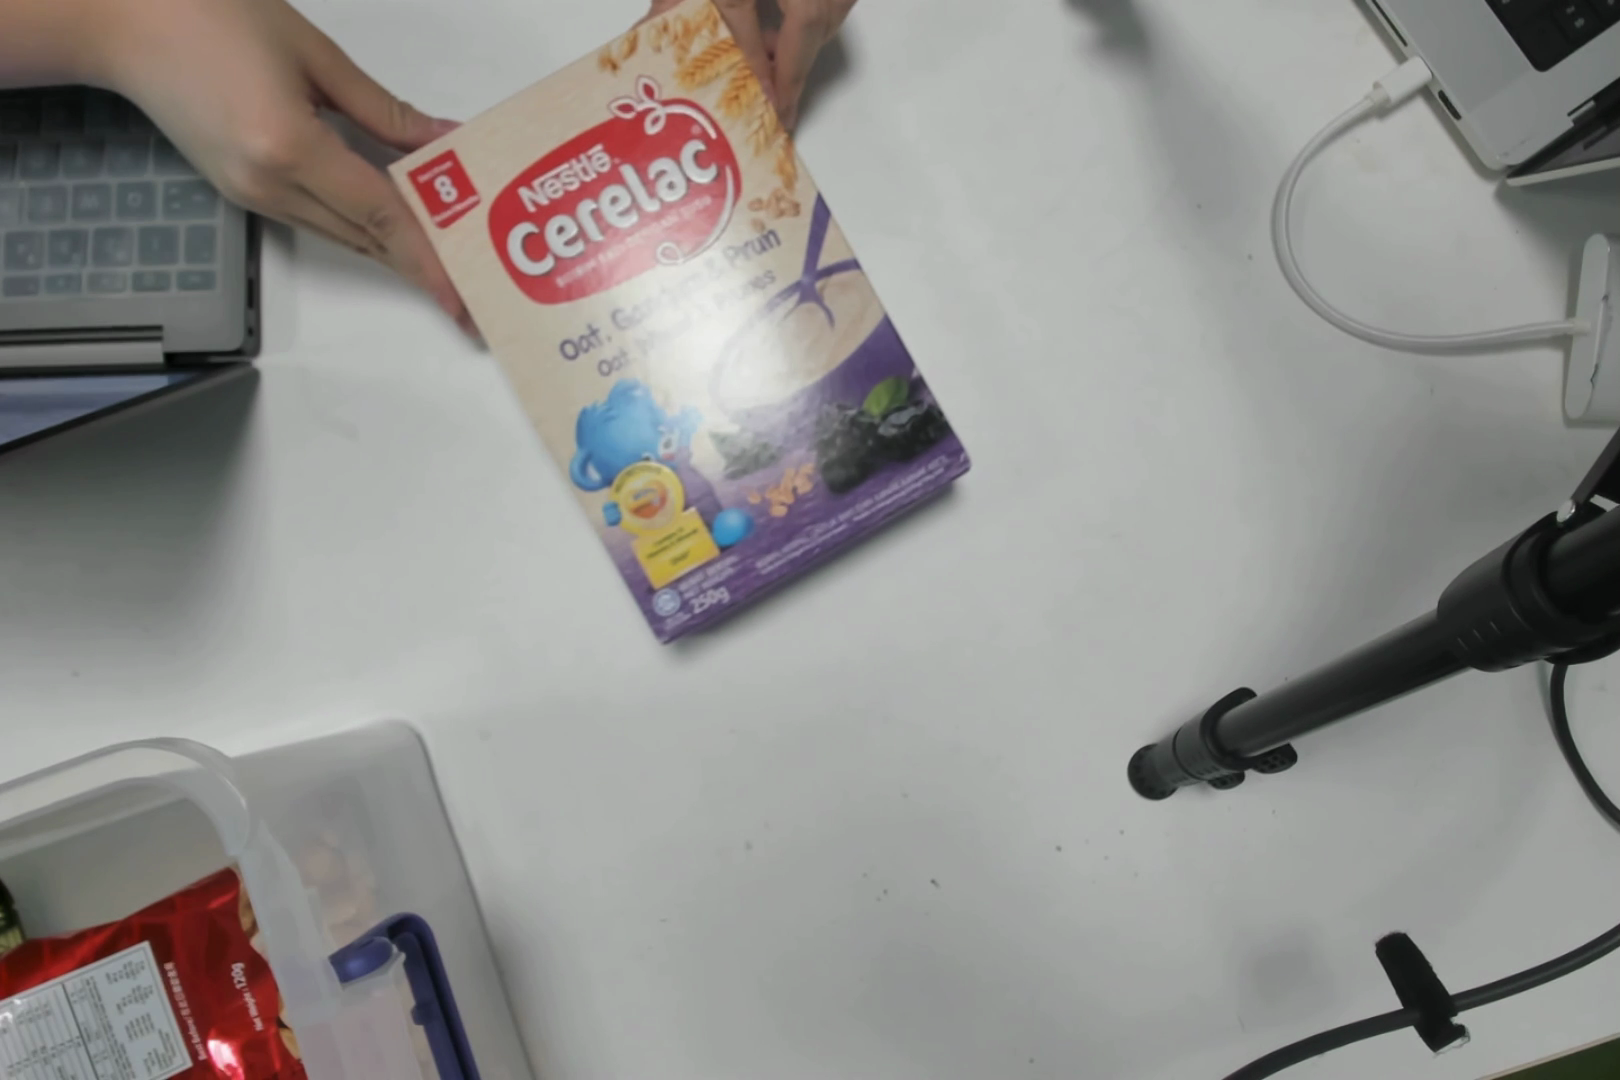b: (513, 74, 837, 636)
